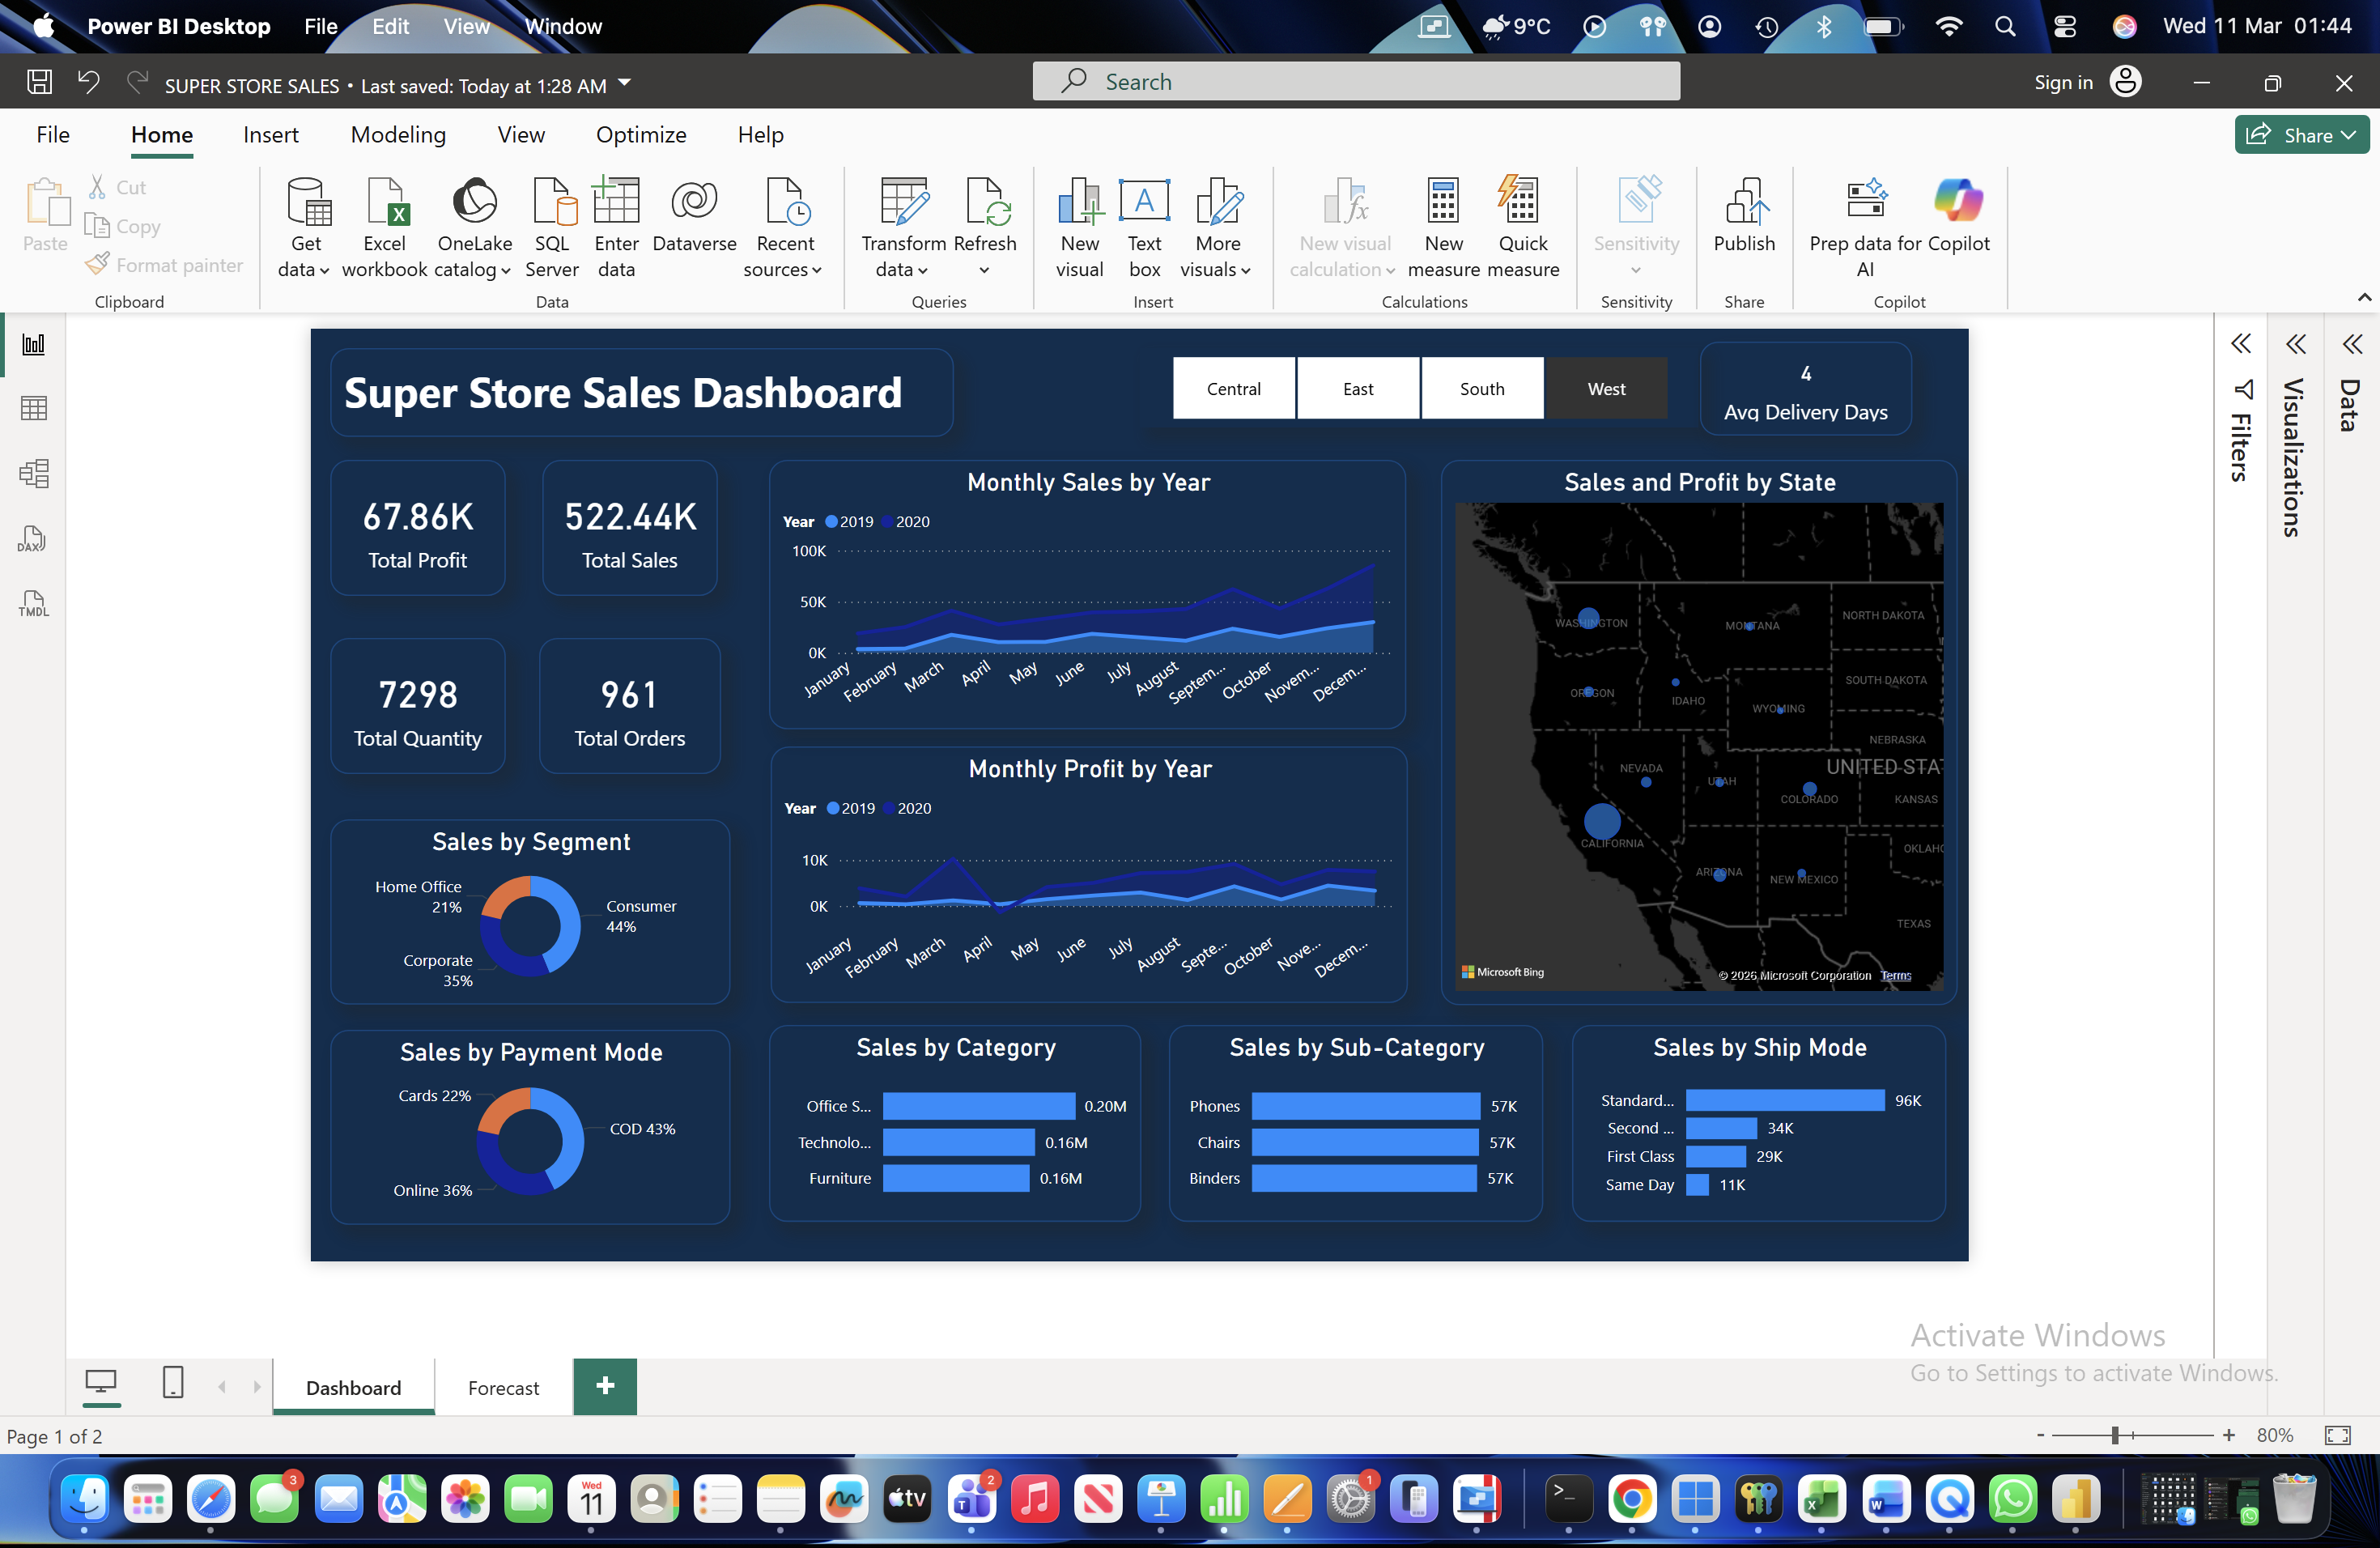

This screenshot's page, from the dashboard's own definition file:
{"tool":"powerbi","page":{"name":"Dashboard","canvas":[1280,720],"ordinal":0},"visuals":[{"type":"clusteredBarChart","title":"Sales by Category","fields":{"Category":["SuperStore Sales DataSet.Category"],"Y":["Sum(SuperStore Sales DataSet.Sales)"]},"box":[353.4,537.7,287.5,152.2],"z":0},{"type":"clusteredBarChart","title":"Sales by Sub-Category","fields":{"Category":["SuperStore Sales DataSet.Sub-Category"],"Y":["Sum(SuperStore Sales DataSet.Sales)"]},"box":[662.8,537.7,289.1,152.2],"z":1},{"type":"clusteredBarChart","title":"Sales by Ship Mode","fields":{"Category":["SuperStore Sales DataSet.Ship Mode"],"Y":["Sum(SuperStore Sales DataSet.Sales)"]},"box":[973.9,537.7,289.1,152.2],"z":2},{"type":"stackedAreaChart","title":"Monthly Sales by Year","fields":{"Y":["Sum(SuperStore Sales DataSet.Sales)"],"Category":["SuperStore Sales DataSet.Order Date.Variation.Date Hierarchy.Month","SuperStore Sales DataSet.Order Date.Variation.Date Hierarchy.Day"],"Series":["SuperStore Sales DataSet.Order Date.Variation.Date Hierarchy.Year"]},"box":[353.4,101.5,492,208],"z":3},{"type":"stackedAreaChart","title":"Monthly Profit by Year","fields":{"Category":["SuperStore Sales DataSet.Order Date.Variation.Date Hierarchy.Month","SuperStore Sales DataSet.Order Date.Variation.Date Hierarchy.Day"],"Series":["SuperStore Sales DataSet.Order Date.Variation.Date Hierarchy.Year"],"Y":["Sum(SuperStore Sales DataSet.Profit)"]},"box":[355.1,323,492,197.8],"z":4},{"type":"map","title":"Sales and Profit by State","fields":{"Category":["SuperStore Sales DataSet.State"],"Size":["Sum(SuperStore Sales DataSet.Sales)"]},"box":[872.5,101.5,399,421],"z":5},{"type":"donutChart","title":"Sales by Segment","fields":{"Category":["SuperStore Sales DataSet.Segment"],"Y":["Sum(SuperStore Sales DataSet.Sales)"]},"box":[15.6,378.5,309,143.2],"z":6},{"type":"donutChart","title":"Sales by Payment Mode","fields":{"Y":["Sum(SuperStore Sales DataSet.Sales)"],"Category":["SuperStore Sales DataSet.Payment Mode"]},"box":[15.6,541.5,309,150.3],"z":7},{"type":"slicer","fields":{"Values":["SuperStore Sales DataSet.Region"]},"box":[640,15,431.7,61.7],"z":8},{"type":"textbox","box":[15,15,481.7,68.3],"z":9},{"type":"card","fields":{"Values":["SuperStore Sales DataSet.Total Profit"]},"box":[15.2,101.5,135.3,104.8],"z":10},{"type":"card","fields":{"Values":["SuperStore Sales DataSet.Total Sales"]},"box":[179.2,101.5,135.3,104.8],"z":11},{"type":"card","fields":{"Values":["SuperStore Sales DataSet.Total Quantity"]},"box":[15.2,238.4,135.3,104.8],"z":12},{"type":"card","fields":{"Values":["SuperStore Sales DataSet.Total Orders"]},"box":[175.9,238.4,140.3,104.8],"z":13},{"type":"card","fields":{"Values":["Avg(SuperStore Sales DataSet.Delivery Days)"]},"box":[1072,10.1,164,72.7],"z":14}]}

Visuals, with their boxes on the page's 1280x720 design canvas (x1, y1, x2, y2). These are canvas units, not pixel positions in the 2380x1548 screenshot, which may show the page scaled, cropped or inside an application window:
"Sales by Category" clusteredBarChart: x1=353 y1=538 x2=641 y2=690
"Sales by Sub-Category" clusteredBarChart: x1=663 y1=538 x2=952 y2=690
"Sales by Ship Mode" clusteredBarChart: x1=974 y1=538 x2=1263 y2=690
"Monthly Sales by Year" stackedAreaChart: x1=353 y1=102 x2=845 y2=310
"Monthly Profit by Year" stackedAreaChart: x1=355 y1=323 x2=847 y2=521
"Sales and Profit by State" map: x1=872 y1=102 x2=1272 y2=522
"Sales by Segment" donutChart: x1=16 y1=378 x2=325 y2=522
"Sales by Payment Mode" donutChart: x1=16 y1=542 x2=325 y2=692
slicer - SuperStore Sales DataSet.Region: x1=640 y1=15 x2=1072 y2=77
textbox: x1=15 y1=15 x2=497 y2=83
card - SuperStore Sales DataSet.Total Profit: x1=15 y1=102 x2=150 y2=206
card - SuperStore Sales DataSet.Total Sales: x1=179 y1=102 x2=314 y2=206
card - SuperStore Sales DataSet.Total Quantity: x1=15 y1=238 x2=150 y2=343
card - SuperStore Sales DataSet.Total Orders: x1=176 y1=238 x2=316 y2=343
card - Avg(SuperStore Sales DataSet.Delivery Days): x1=1072 y1=10 x2=1236 y2=83
